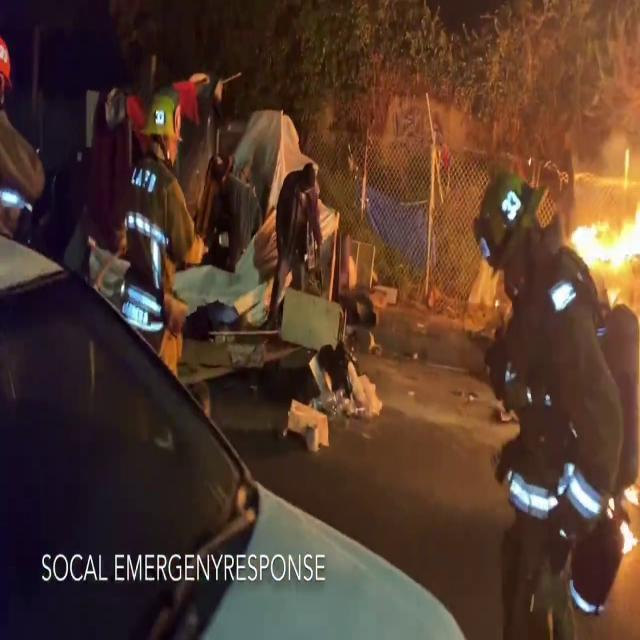Fire: (575, 151, 640, 287)
